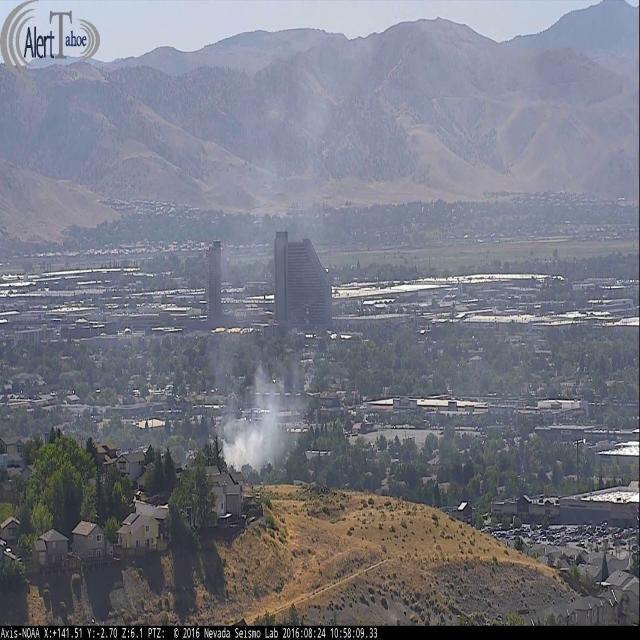smoke: (201, 320, 336, 478)
